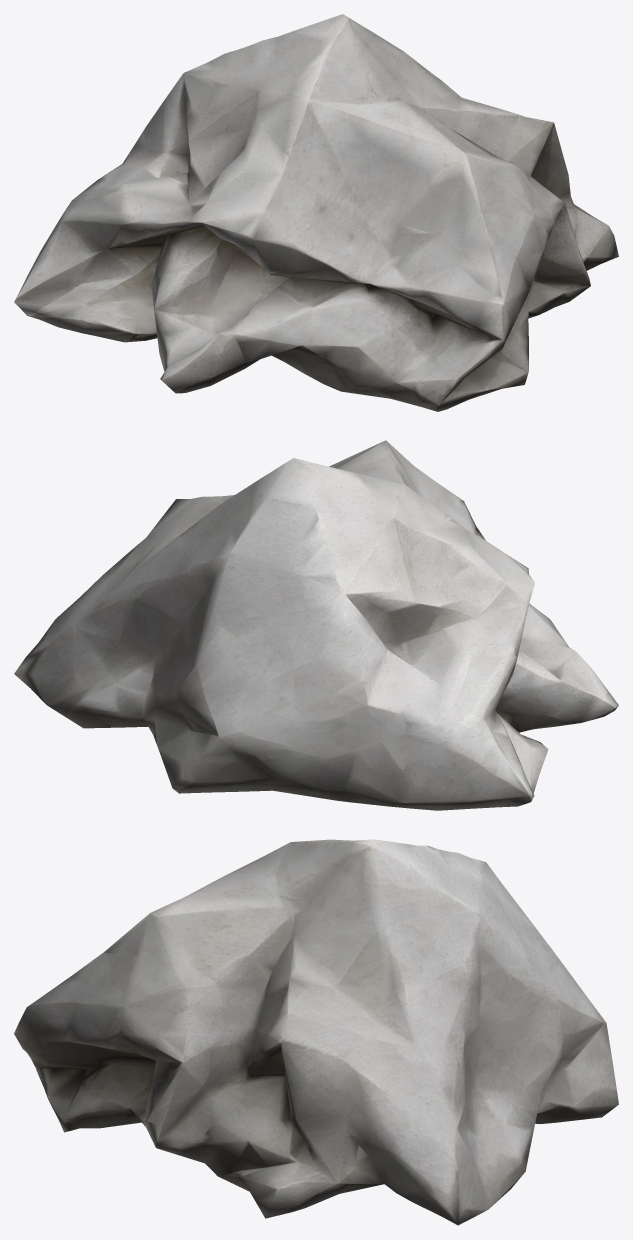
Rendered from cloth+pile+3d+model.glb.
3 views of the same model, one above another, from view 1: azimuth 30°, elevation 25°; view 2: azimuth 150°, elevation 25°; view 3: azimuth 270°, elevation 25° (orthographic). The views are drawn at different scales.
Parts seen in each view (by area): view 1: tripo_node_06bf1f8b-d7bb-4144-91aa-91ec81ba392f; view 2: tripo_node_06bf1f8b-d7bb-4144-91aa-91ec81ba392f; view 3: tripo_node_06bf1f8b-d7bb-4144-91aa-91ec81ba392f.
Boxes of the visible parts, <box> form: tripo_node_06bf1f8b-d7bb-4144-91aa-91ec81ba392f: <box>14,14,618,411</box>; tripo_node_06bf1f8b-d7bb-4144-91aa-91ec81ba392f: <box>14,440,618,810</box>; tripo_node_06bf1f8b-d7bb-4144-91aa-91ec81ba392f: <box>14,839,618,1225</box>.
Size of the model in its own units: 1 by 0.4797 by 0.9491.
Materials: 1 (1 with a texture image).
